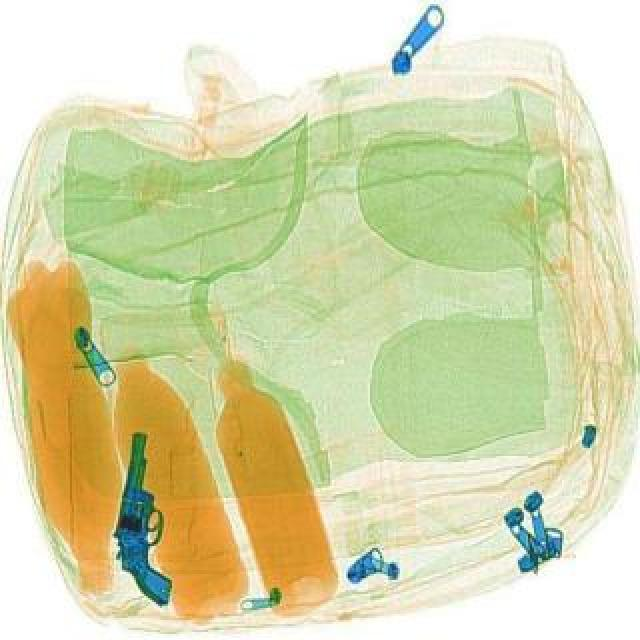gun: (104, 428, 192, 606)
